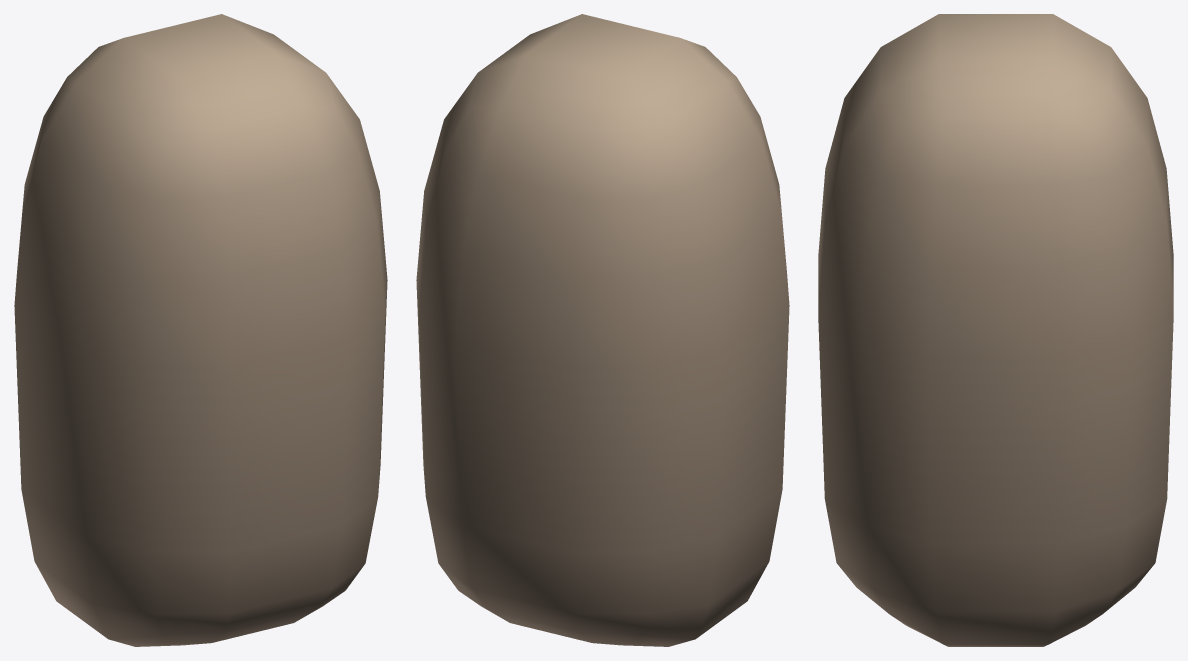
The model's file is Rock_6_D_Color3.fbx.
3 renders of one model, left to right at view 1: azimuth 30°, elevation 25°; view 2: azimuth 150°, elevation 25°; view 3: azimuth 270°, elevation 25°, orthographic.
Visible parts, largest first — view 1: Rock_6_D_Color3; view 2: Rock_6_D_Color3; view 3: Rock_6_D_Color3.
Boxes of the visible parts, <box> form: Rock_6_D_Color3: <box>14,14,387,646</box>; Rock_6_D_Color3: <box>416,14,789,646</box>; Rock_6_D_Color3: <box>818,14,1173,646</box>.
Bounding box in the file's own units: 0.8757 × 1.56 × 0.8757.
